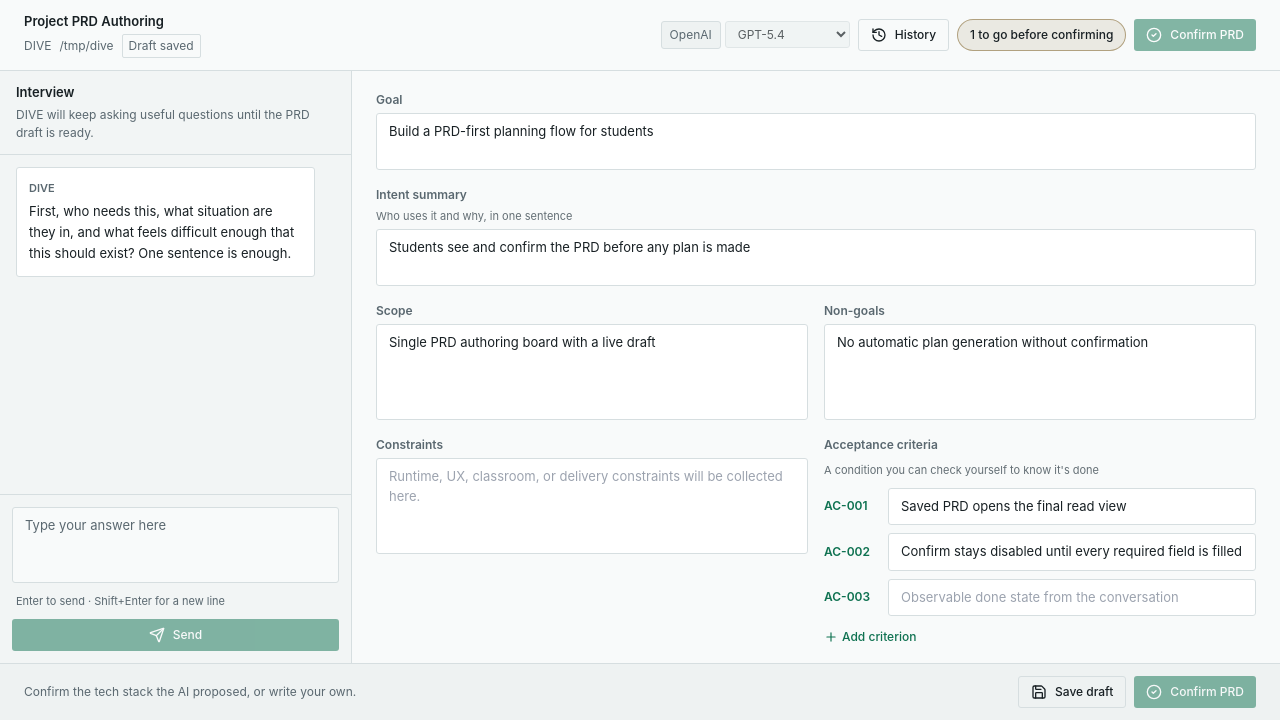
PrdAuthoringBoard › confirm-gate legibility (S-073) › counts the stack as the one remaining gap and clears the chip once it is written (S-075)
The image size is (1280, 720).
Click the button with test id "prd-confirm-remaining".
click(1042, 35)  # box [957,19,1126,51]
(page scrolled)
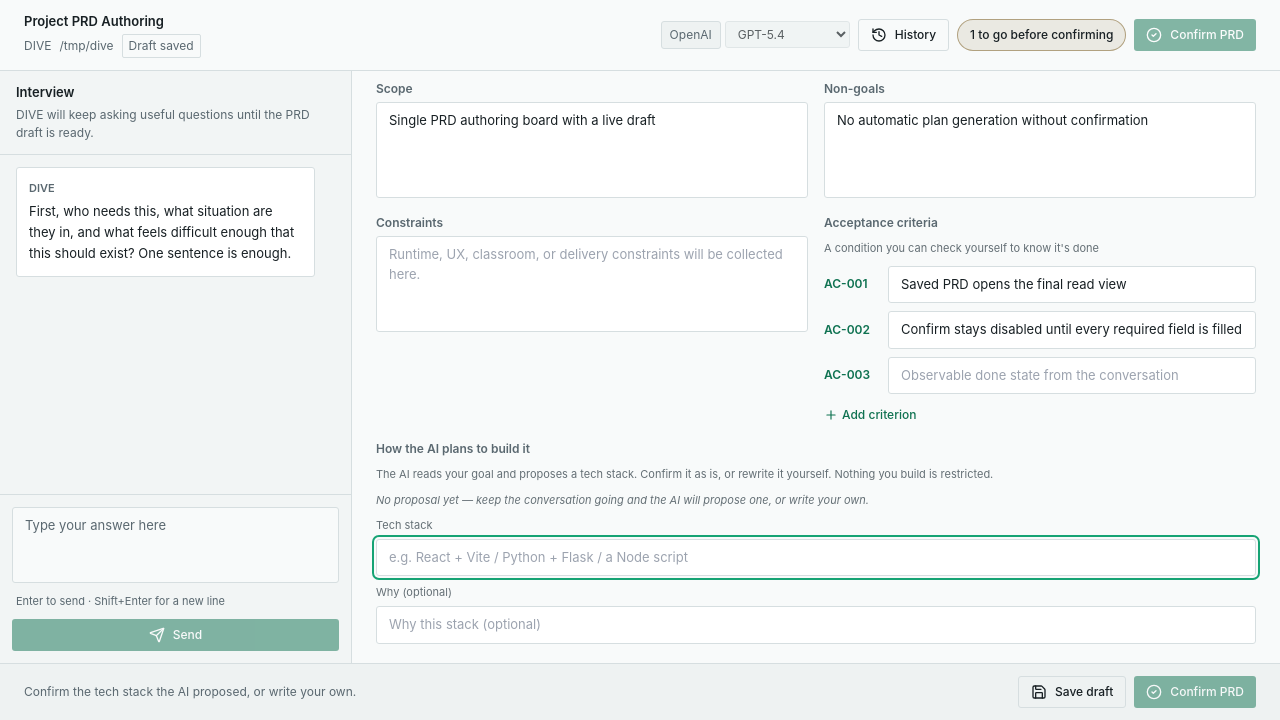
Type "React + Vite" into the field with test id "prd-architecture-stack-input".
click(816, 558); type("React + Vite")  # box [376,539,1256,576]
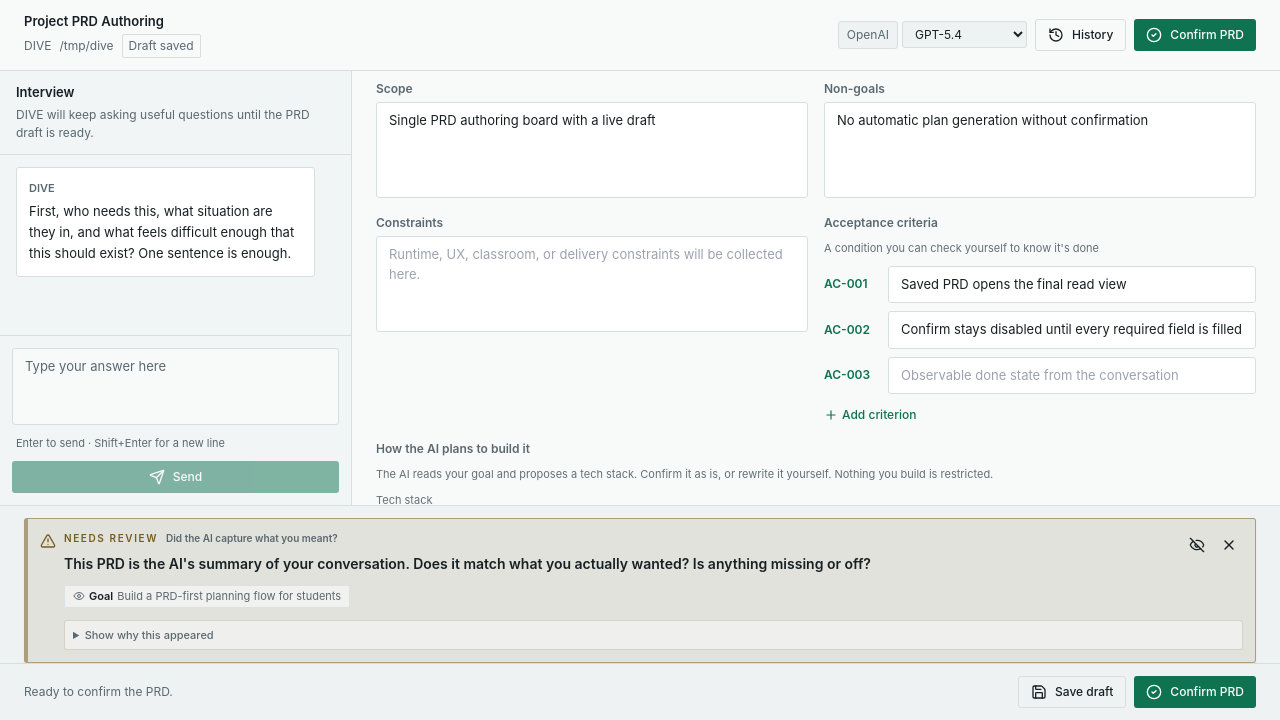
Result: the button with test id "prd-confirm-remaining" is gone
